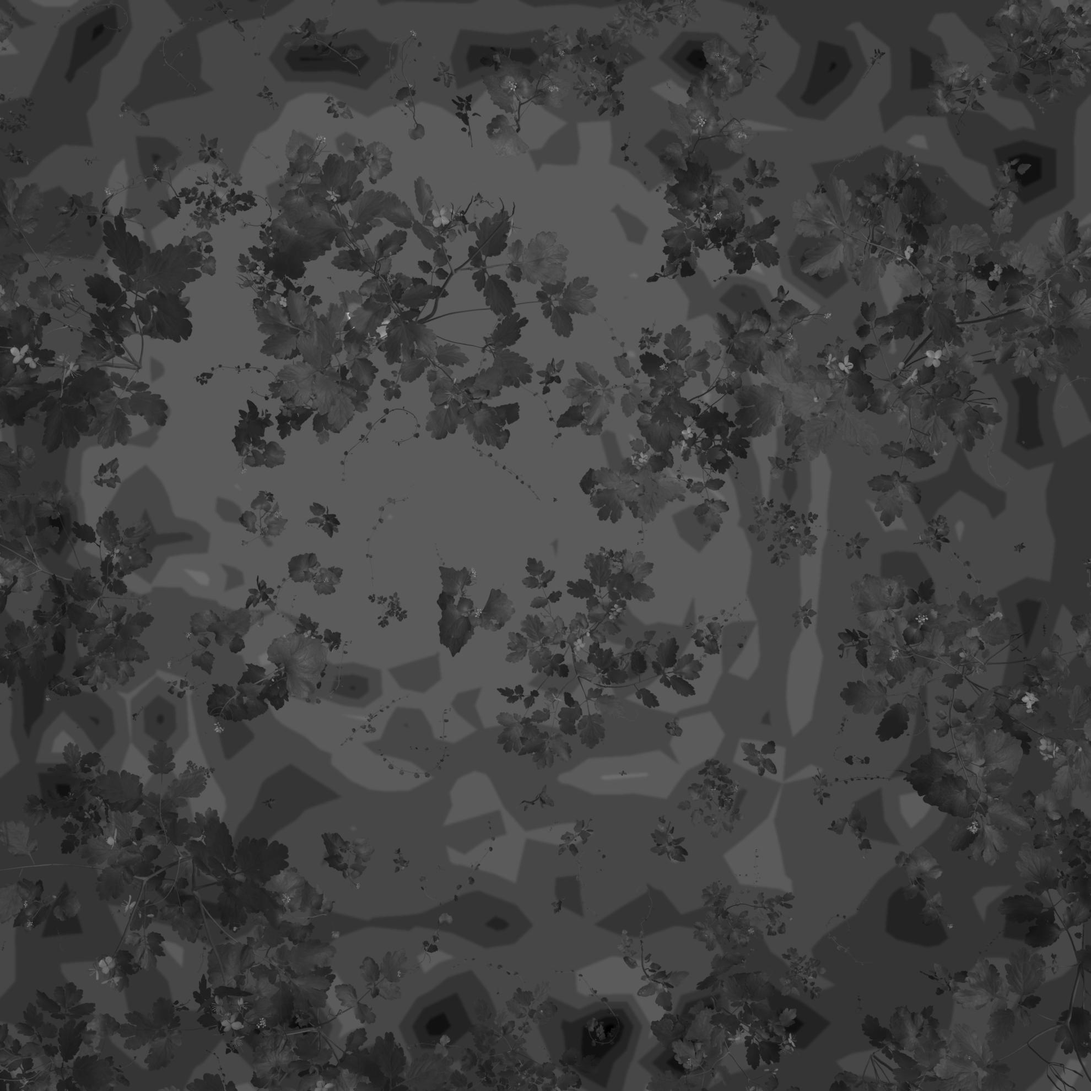landmine: (369, 300, 419, 341)
